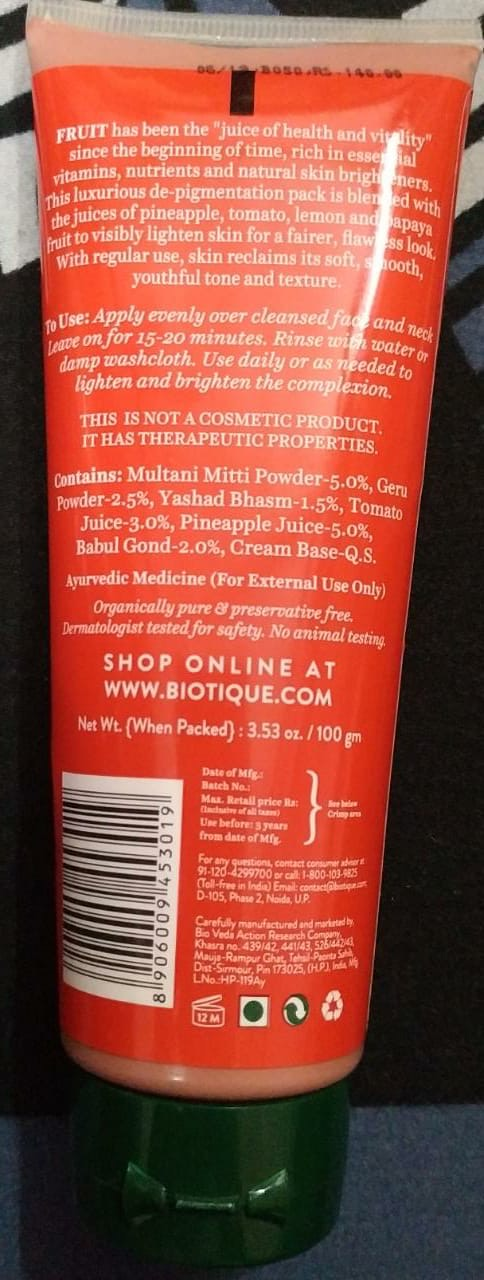barcode: (54, 763, 184, 1022)
